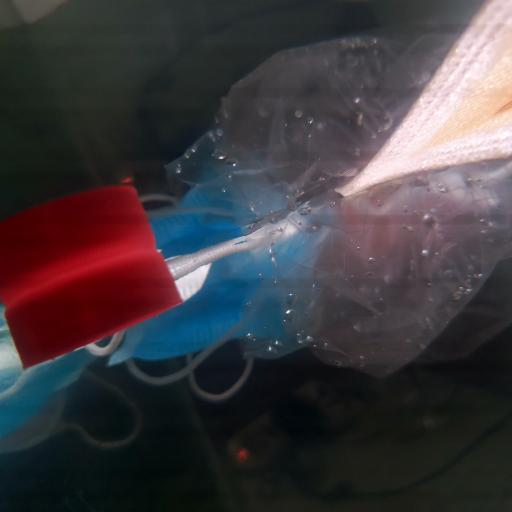bottle_cap: (0, 230, 182, 367)
mask: (91, 159, 338, 397), (337, 0, 512, 200)
plastic_bag: (163, 33, 512, 377)
